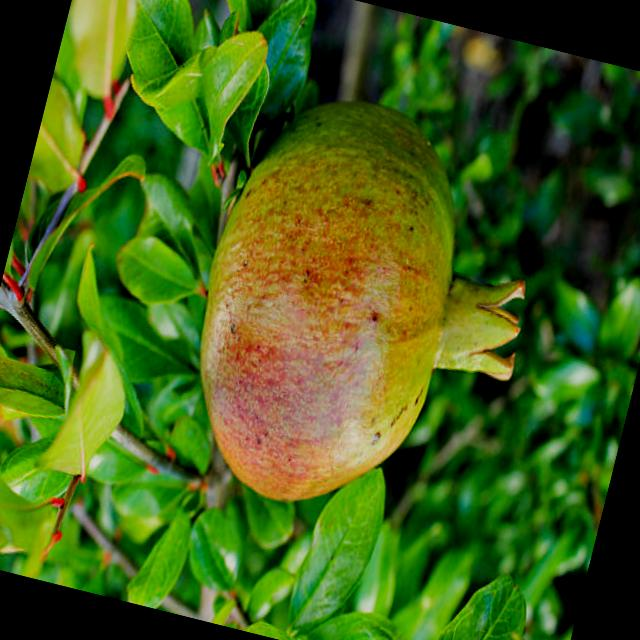Pomegranate: (158, 73, 564, 546)
